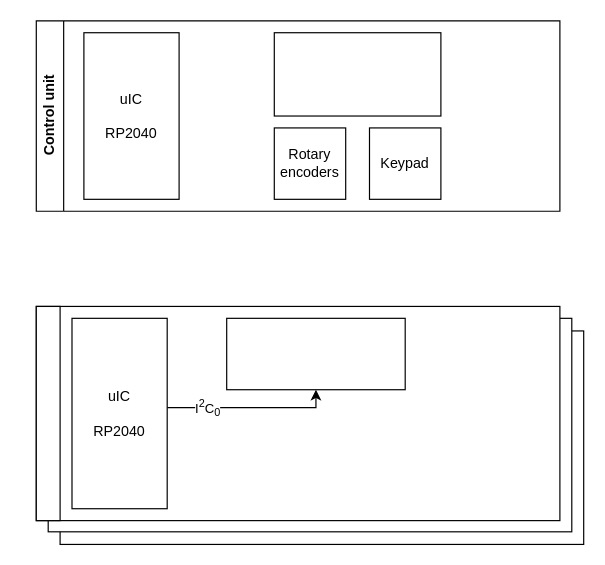
Image size: 605x565. Some labels were removed from this diagram. Here are the shapes that lost their labels. From the top down, the box of each, then its label:
(273, 32, 441, 116): Display
(226, 317, 405, 390): Switching regulator
(35, 305, 60, 521): Power unit/s
